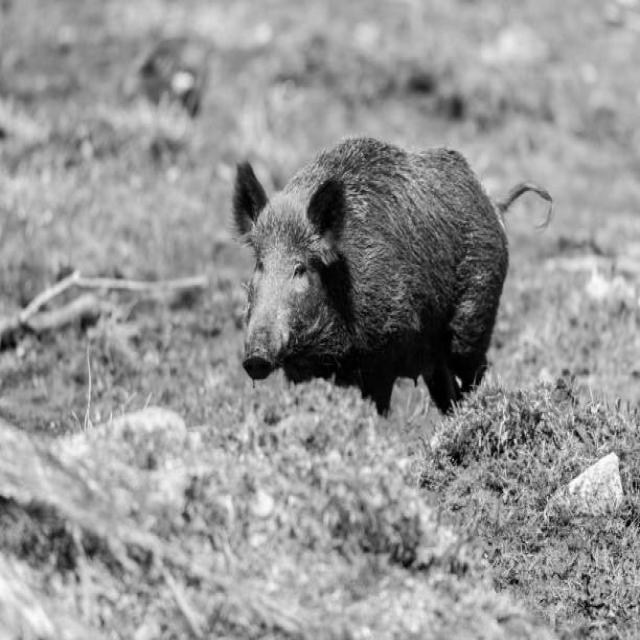boar: (234, 137, 554, 415)
